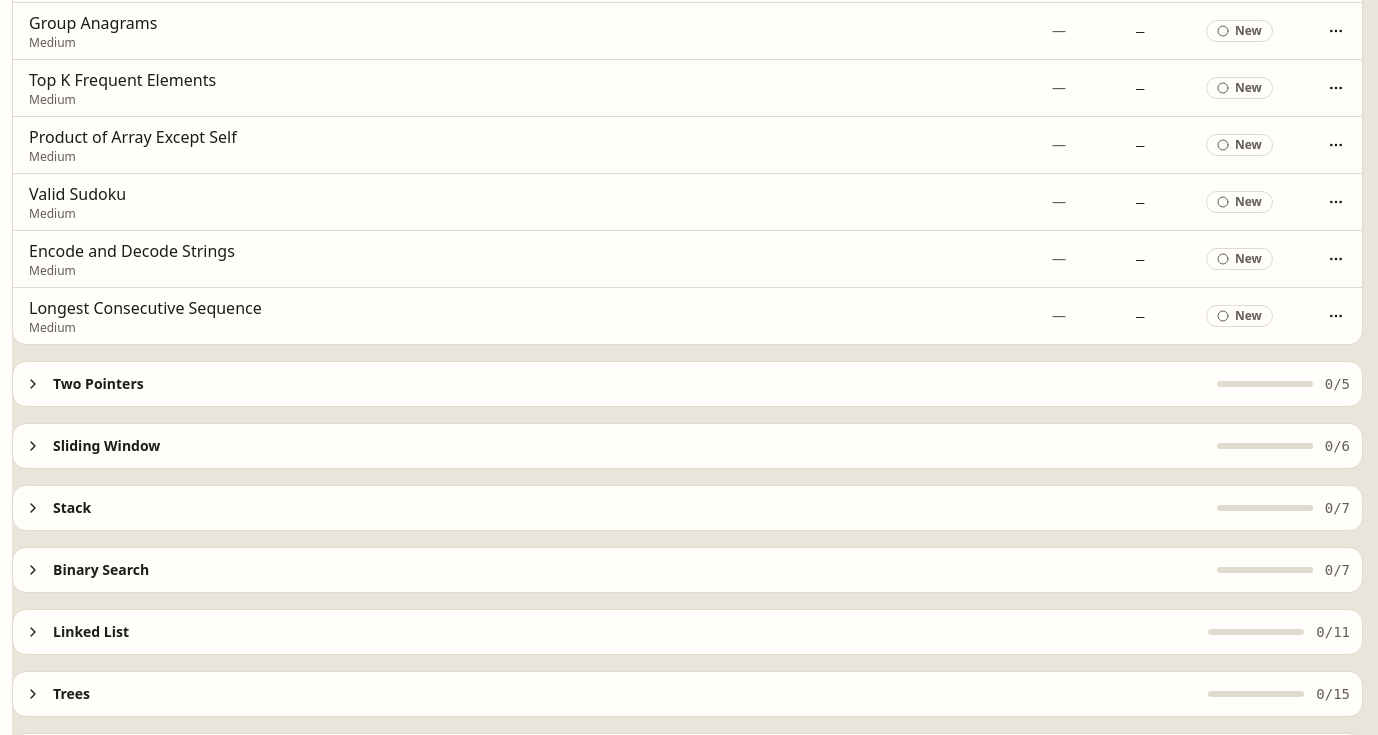
Test case: ProblemsPage › opens and closes a topic from its header
(page scrolled)
What coordinates should you click on to do the following:
click the button "Two Pointers 0/5"
I would click on:
 (98, 384)
Its box is [13,362,1362,406].
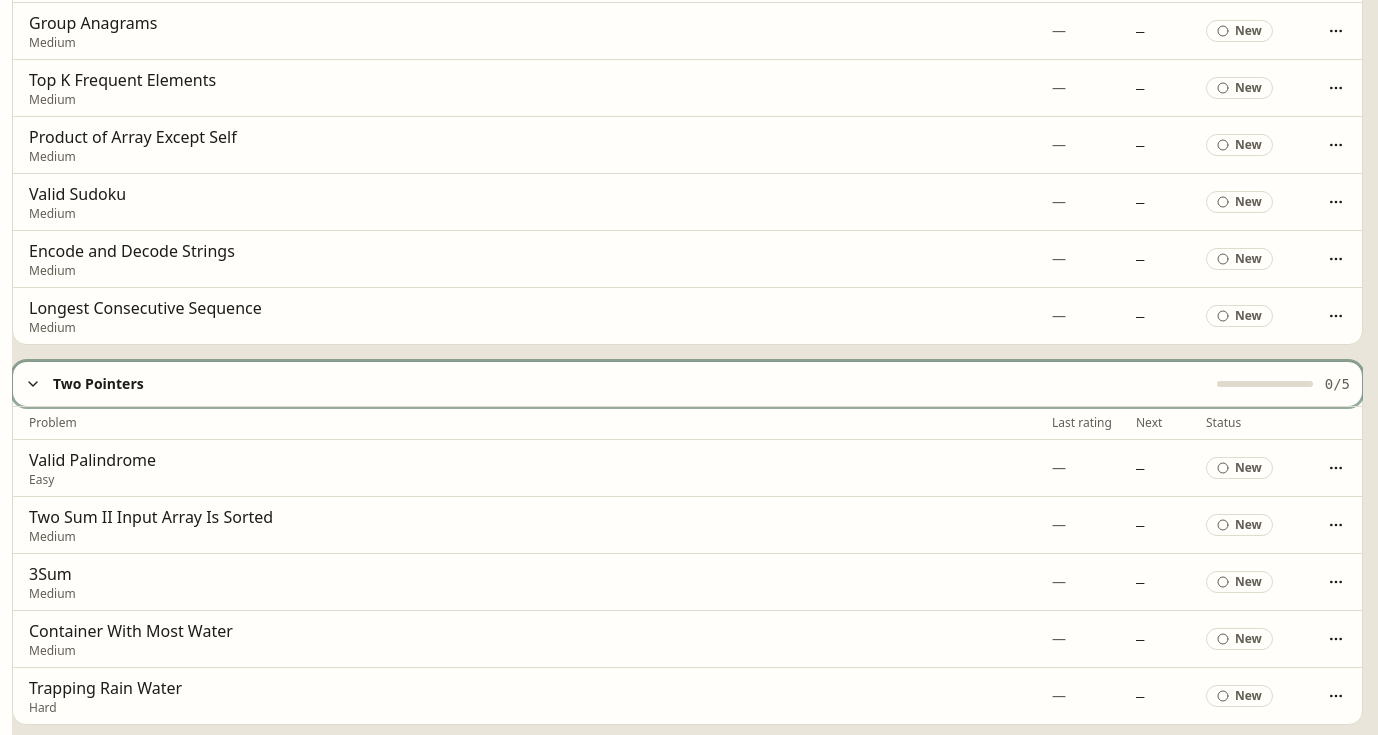
Expected: the button "Two Pointers 0/5" is expanded, [13,362,1362,406]
Expected: the text "New" in the row of "Valid Palindrome" is shown, [1235,459,1262,476]
